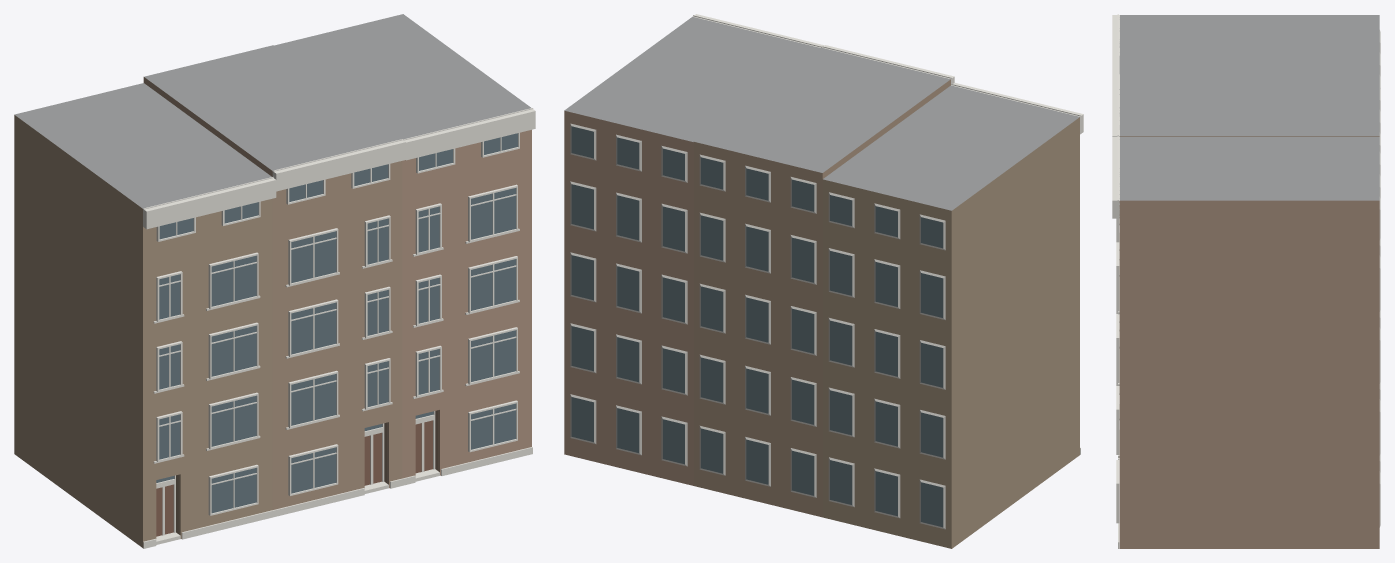
Rendered from chunk-face-treslong-6-26-r1.glb.
3 renders of one model, left to right at view 1: azimuth 30°, elevation 25°; view 2: azimuth 150°, elevation 25°; view 3: azimuth 270°, elevation 25°, orthographic.
Visible parts, largest first — view 1: face-treslong-6-26-r1; view 2: face-treslong-6-26-r1; view 3: face-treslong-6-26-r1.
Boxes of the visible parts, x1,y1,x2,y2 form: face-treslong-6-26-r1: (14,14,535,548); face-treslong-6-26-r1: (564,14,1083,548); face-treslong-6-26-r1: (1112,14,1380,548).
Bounding box in the file's own units: 18.31 × 15.58 × 10.84.
